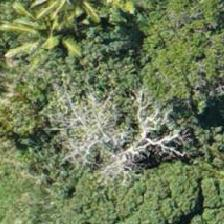coconut_tree: (6, 0, 96, 81)
